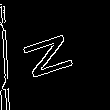N_E: (18, 28, 81, 83)
